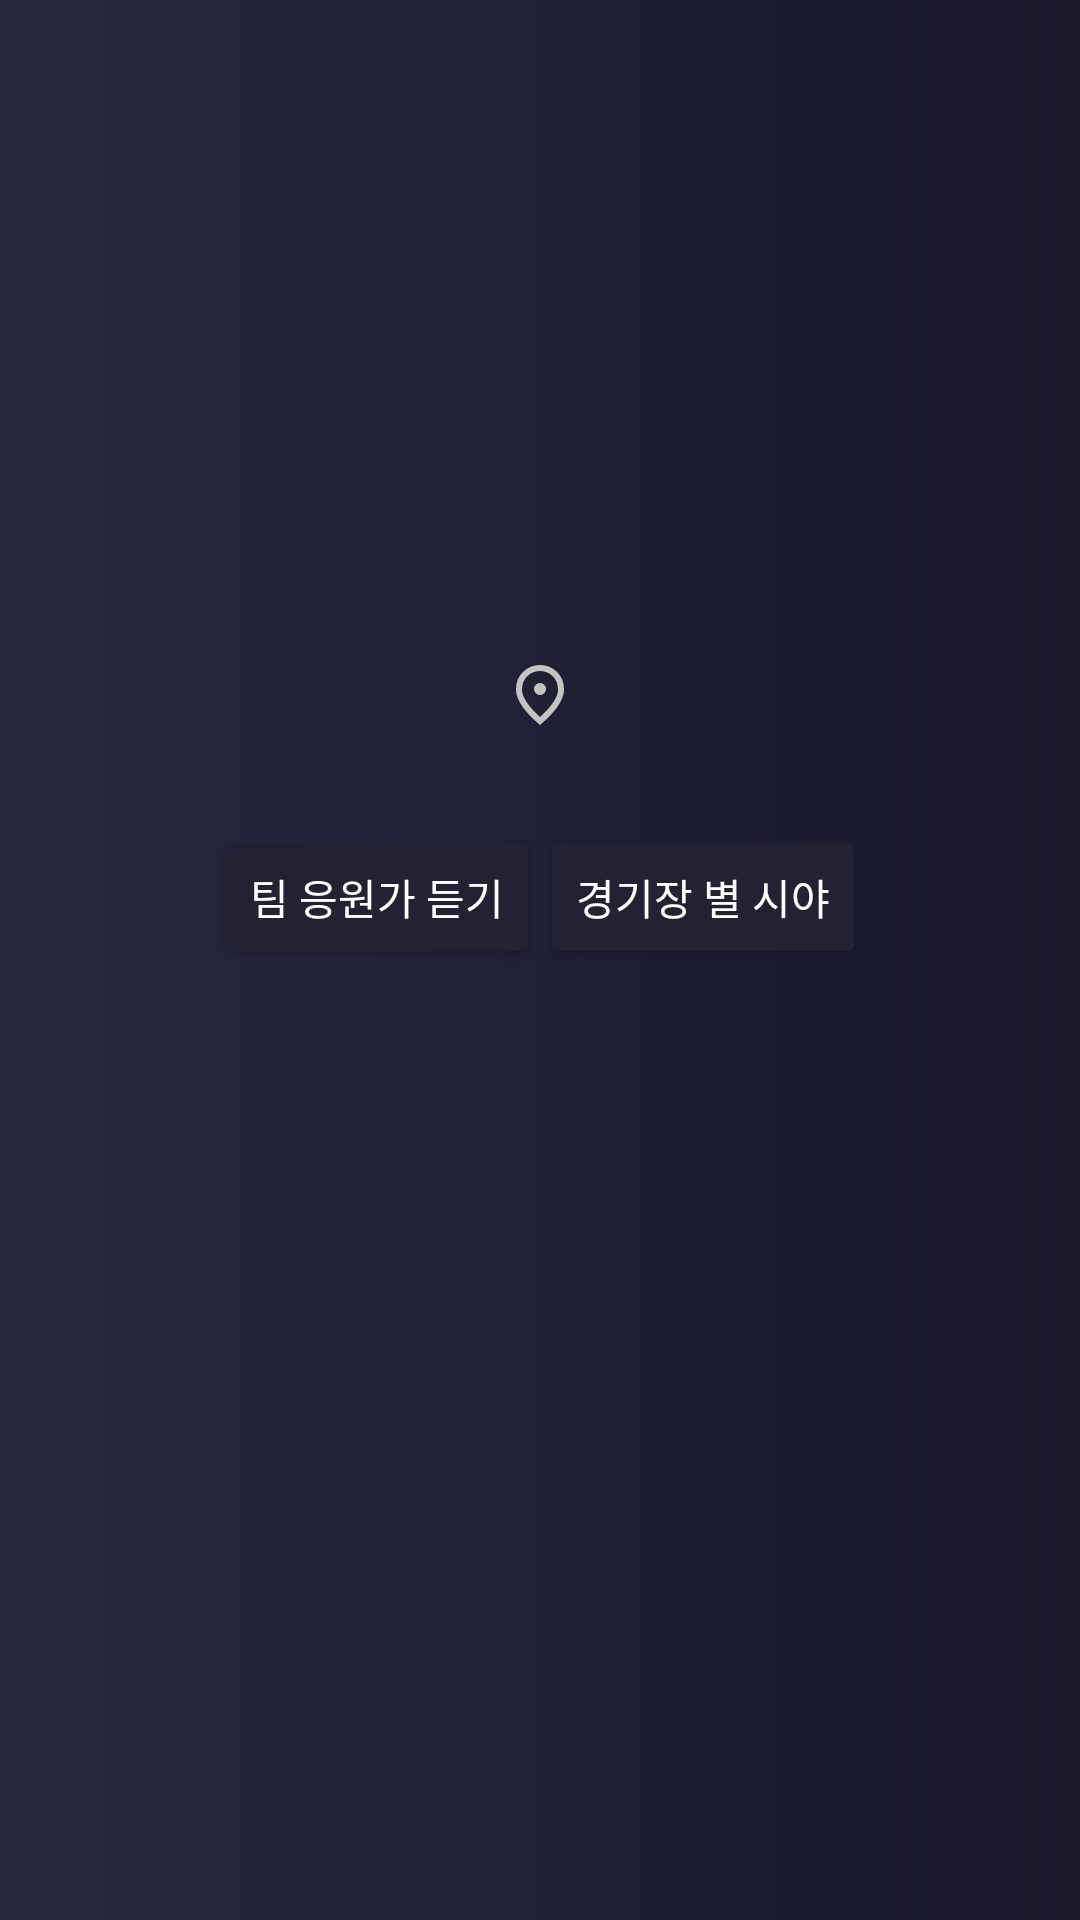

Icons on this 1080 × 1920 Android screen, each with the point to tap as point (x, y):
location: point (540, 695)
